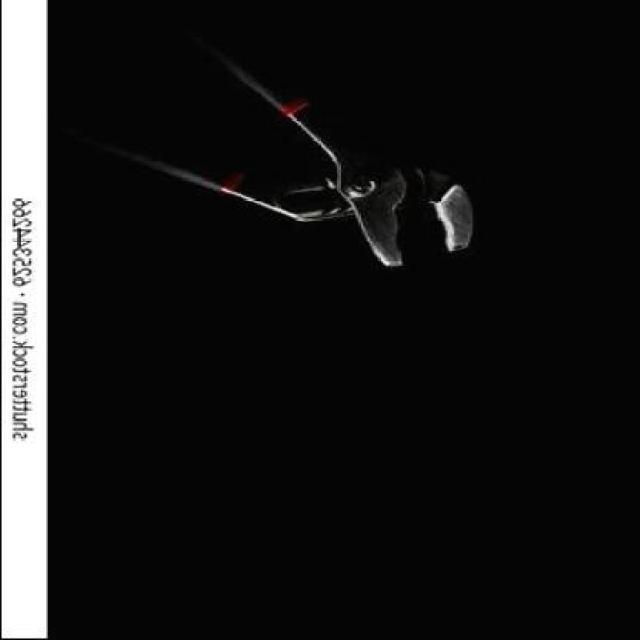pliers: (74, 26, 477, 279)
